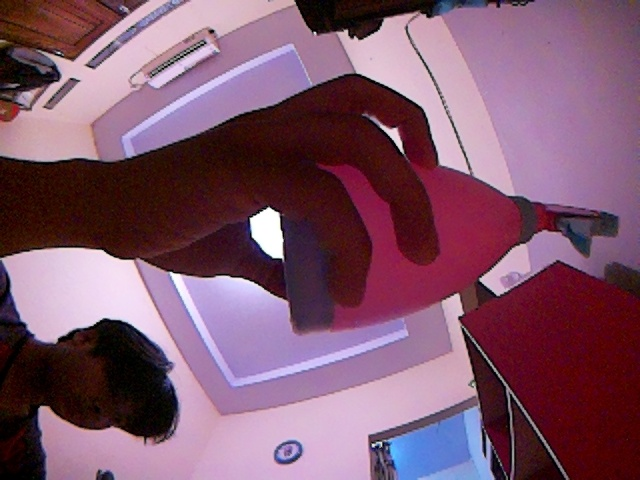korban: (284, 163, 623, 341)
